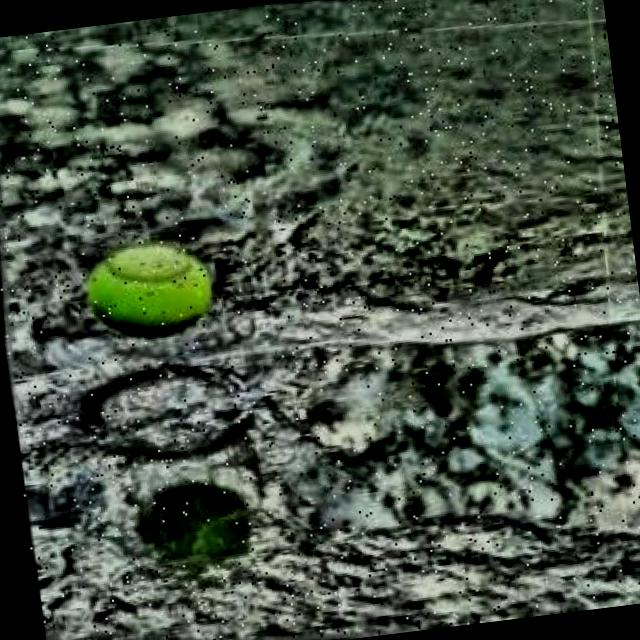Tennis Ball: (78, 232, 220, 345)
